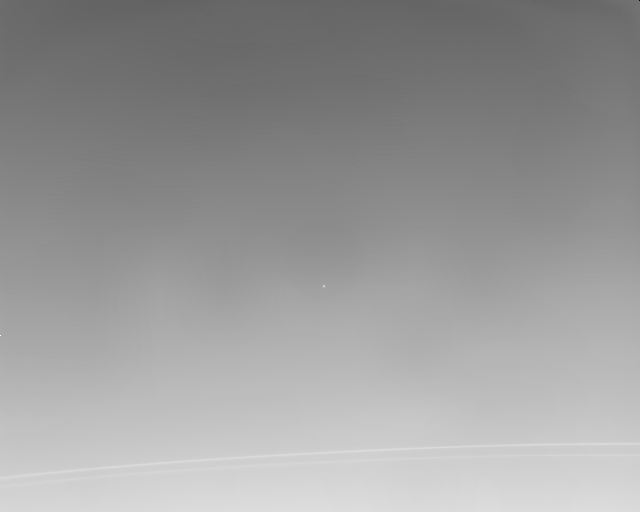Target: (322, 284, 325, 288)
